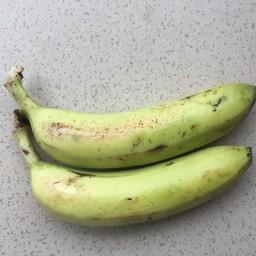Good_banana: (12, 88, 256, 167), (9, 155, 256, 220)
